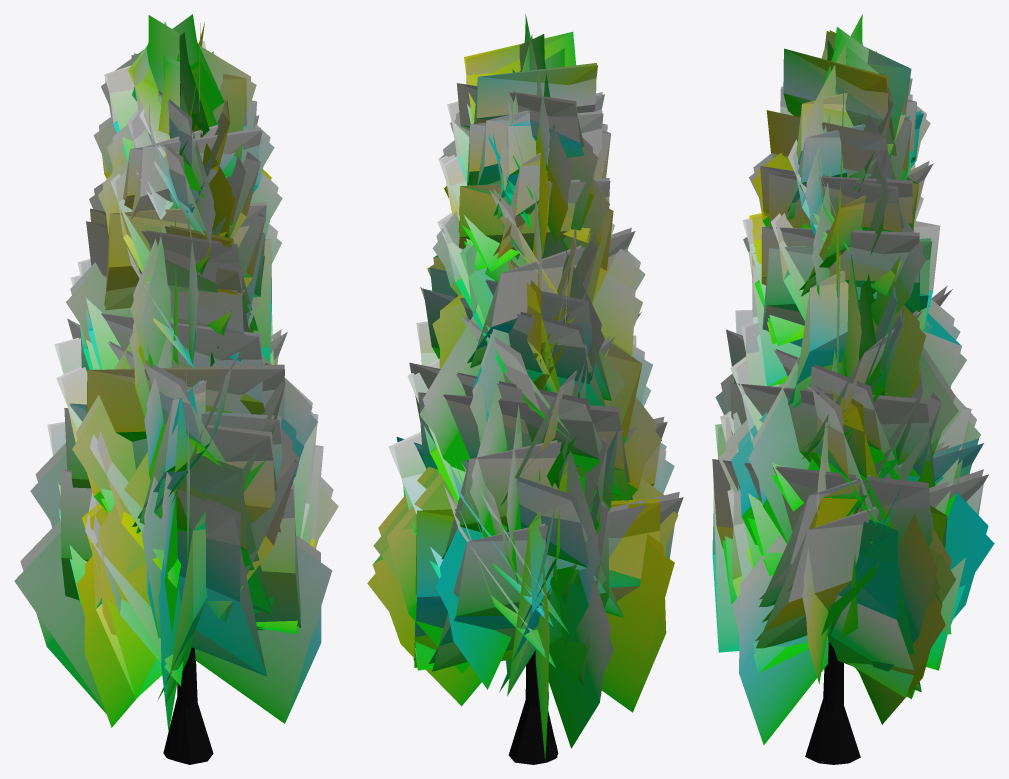
The model's file is poplar_01_columnar_a.dae.
3 views of the same model, side by side, from view 1: azimuth 30°, elevation 25°; view 2: azimuth 150°, elevation 25°; view 3: azimuth 270°, elevation 25° (orthographic).
Parts seen in each view (by area): view 1: poplar384, poplar128; view 2: poplar384, poplar128; view 3: poplar384, poplar128.
Part boxes in pixels (x1=…): poplar384: x1=20, y1=14, x2=333, y2=764; poplar128: x1=14, y1=22, x2=338, y2=764; poplar384: x1=372, y1=14, x2=679, y2=764; poplar128: x1=367, y1=26, x2=683, y2=764; poplar384: x1=712, y1=14, x2=988, y2=764; poplar128: x1=712, y1=24, x2=994, y2=764.
Size of what is drawn, in the model's own units: 8.34 by 7.84 by 22.42.
